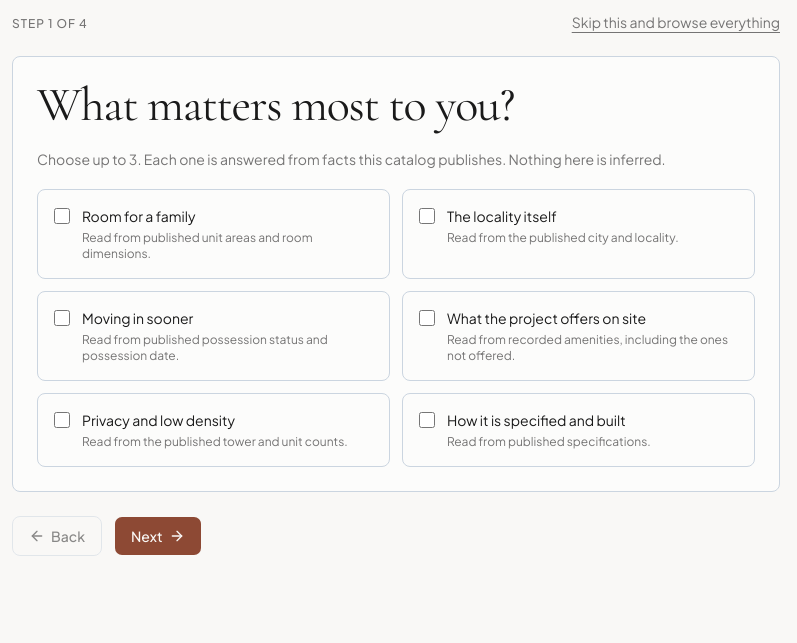
Test: IntakeFlow — the stated range never leaves the device unasked › says plainly what the hand-off link does and does not carry
The width and height of the screenshot is (797, 643).
Click the button "Next" at (158, 536), box x1=114 y1=516 x2=202 y2=556
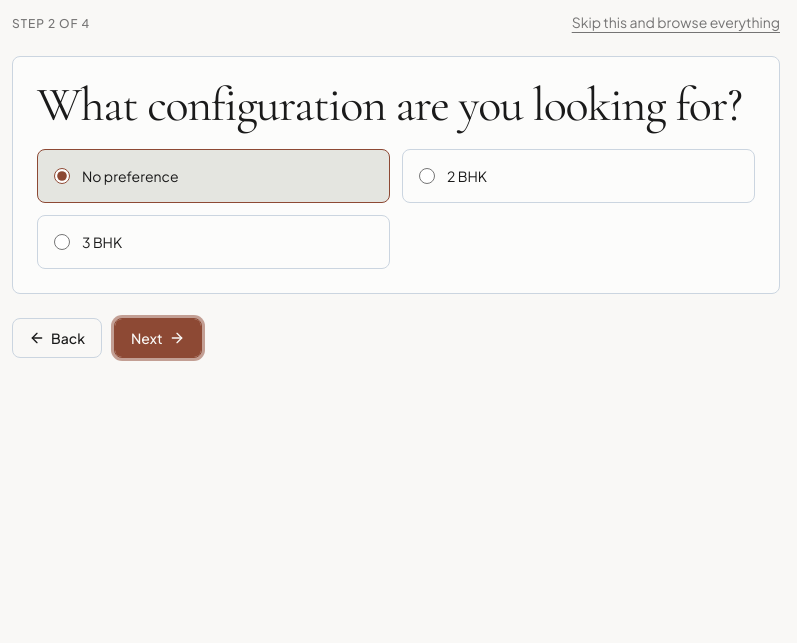
Click the radio button labelled "2 BHK" at (427, 176), box x1=419 y1=168 x2=435 y2=184
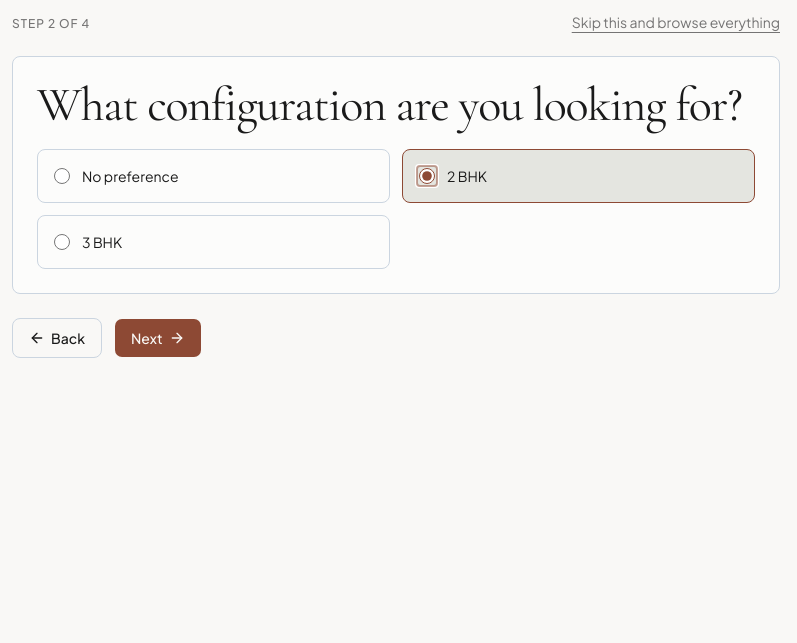
Click the button "Next" at (158, 338), box x1=114 y1=318 x2=202 y2=358
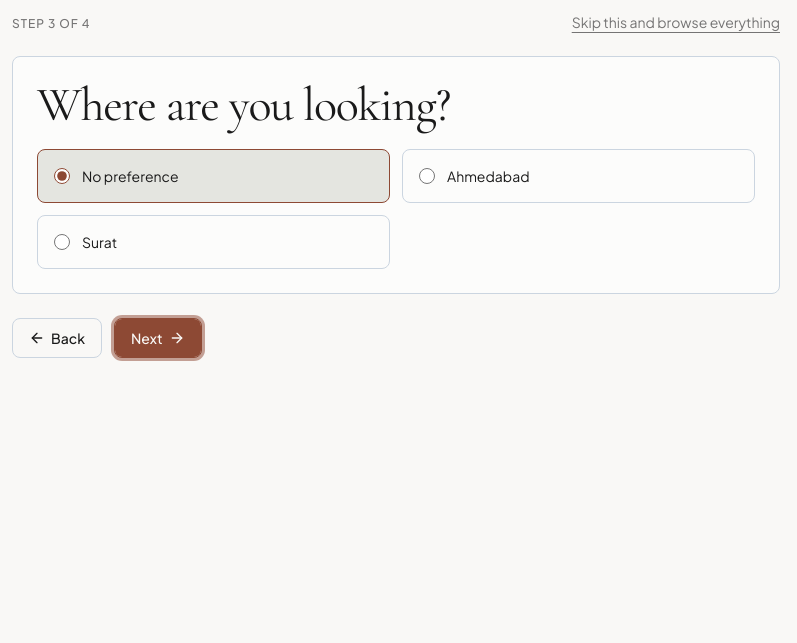
Click the button "Next" at (158, 338), box x1=114 y1=318 x2=202 y2=358
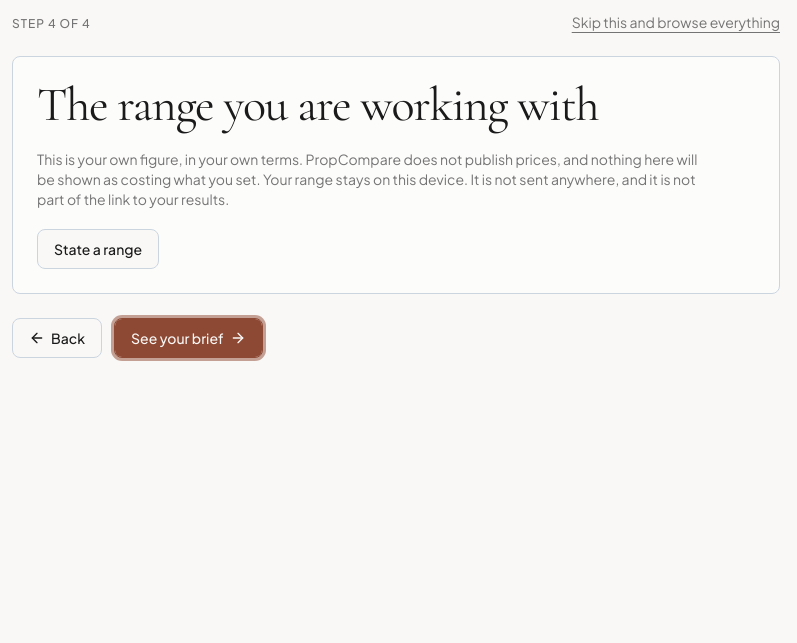
Click the button "See your brief" at (188, 338), box x1=114 y1=318 x2=263 y2=358
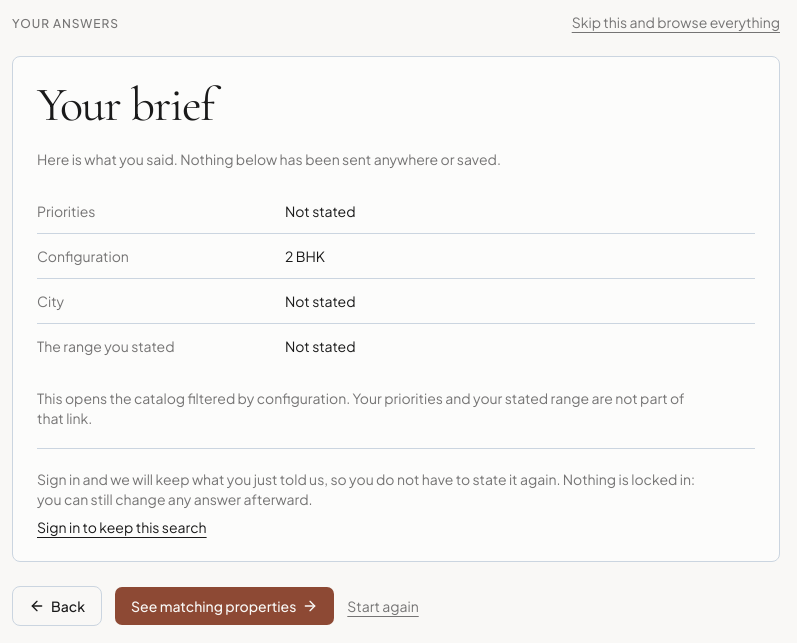
Check: the text "filtered by configuration. Your priorities and your stated range are not part of that link." is shown, box x1=37 y1=389 x2=684 y2=427
